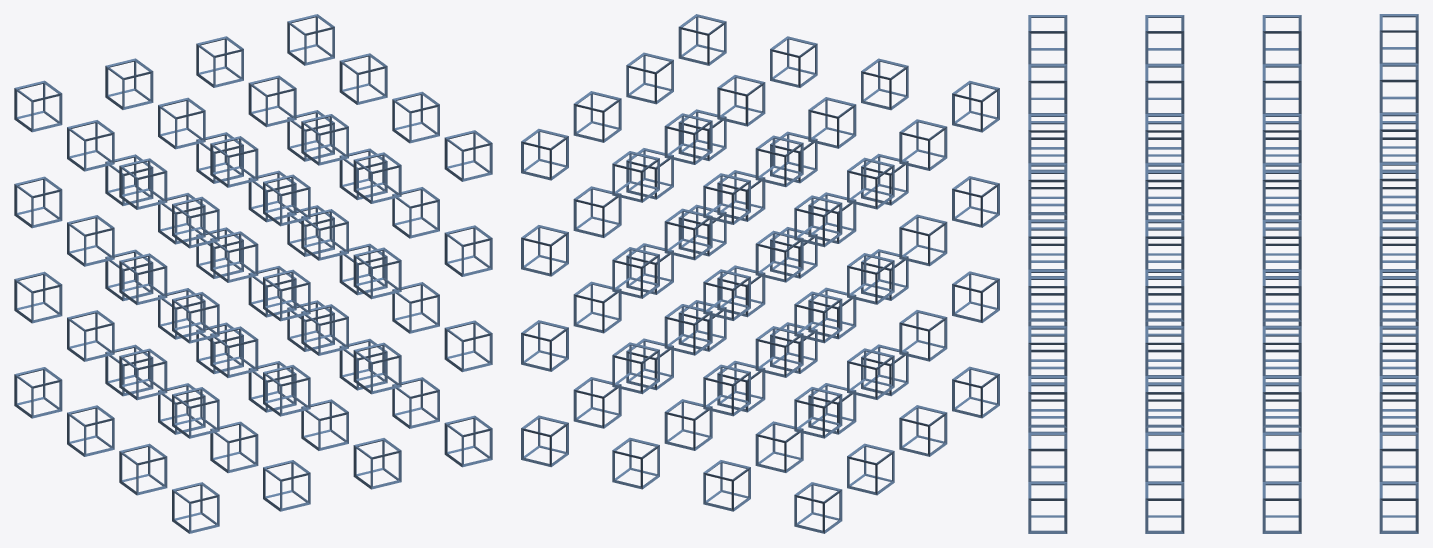
Rendered from cubes_still.glb.
The picture shows the model from 3 angles, left to right: view 1: azimuth 30°, elevation 25°; view 2: azimuth 150°, elevation 25°; view 3: azimuth 270°, elevation 25°; orthographic projection. The views are drawn at different scales.
Parts seen in each view (by area): view 1: cubes_not animated.212, cubes_not animated.192, cubes_not animated.249, cubes_not animated.191, cubes_not animated.248, cubes_not animated.187, cubes_not animated.227, cubes_not animated.253, cubes_not animated.168, cubes_not animated.197, cubes_not animated.239, cubes_not animated.243 (+52 smaller); view 2: cubes_not animated.218, cubes_not animated.165, cubes_not animated.212, cubes_not animated.227, cubes_not animated.216, cubes_not animated.170, cubes_not animated.168, cubes_not animated.222, cubes_not animated.167, cubes_not animated.217, cubes_not animated.175, cubes_not animated.160 (+52 smaller); view 3: cubes_not animated.194, cubes_not animated.163, cubes_not animated.168, cubes_not animated.189, cubes_not animated.214, cubes_not animated.219, cubes_not animated.239, cubes_not animated.244, cubes_not animated.173, cubes_not animated.199, cubes_not animated.224, cubes_not animated.249 (+28 smaller).
Part boxes in pixels (x1,y1,x2,y2): cubes_not animated.212: (119, 253, 167, 304); cubes_not animated.192: (14, 80, 62, 132); cubes_not animated.249: (444, 415, 492, 467); cubes_not animated.191: (105, 58, 153, 109); cubes_not animated.248: (353, 438, 401, 489); cubes_not animated.187: (14, 176, 62, 228); cubes_not animated.227: (119, 348, 167, 400); cubes_not animated.253: (353, 342, 401, 394); cubes_not animated.168: (339, 53, 387, 104); cubes_not animated.197: (14, 367, 62, 418); cubes_not animated.239: (444, 225, 492, 276); cubes_not animated.243: (353, 152, 401, 203); cubes_not animated.218: (717, 75, 765, 126); cubes_not animated.165: (755, 135, 803, 187); cubes_not animated.212: (899, 214, 947, 266); cubes_not animated.227: (899, 310, 947, 361); cubes_not animated.216: (808, 97, 856, 148); cubes_not animated.170: (755, 421, 803, 472); cubes_not animated.168: (573, 91, 621, 142); cubes_not animated.222: (899, 405, 947, 456); cubes_not animated.167: (664, 113, 712, 164); cubes_not animated.217: (899, 119, 947, 170); cubes_not animated.175: (755, 326, 803, 377); cubes_not animated.160: (755, 230, 803, 282); cubes_not animated.194: (1379, 162, 1418, 214); cubes_not animated.163: (1262, 269, 1301, 321); cubes_not animated.168: (1262, 163, 1301, 215); cubes_not animated.189: (1379, 269, 1418, 321); cubes_not animated.214: (1145, 269, 1184, 321); cubes_not animated.219: (1145, 163, 1184, 215); cubes_not animated.239: (1028, 269, 1067, 321); cubes_not animated.244: (1028, 163, 1067, 215); cubes_not animated.173: (1262, 482, 1301, 533); cubes_not animated.199: (1379, 482, 1418, 533); cubes_not animated.224: (1145, 482, 1184, 533); cubes_not animated.249: (1028, 482, 1067, 533).
Size of the model in its own units: 1 by 1 by 1.
